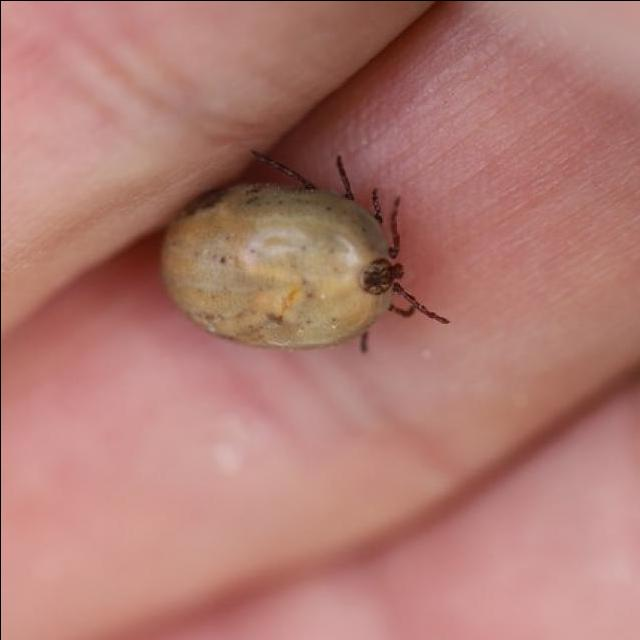Dermacentor Reticulatus-F-Fed: (158, 150, 448, 353)
